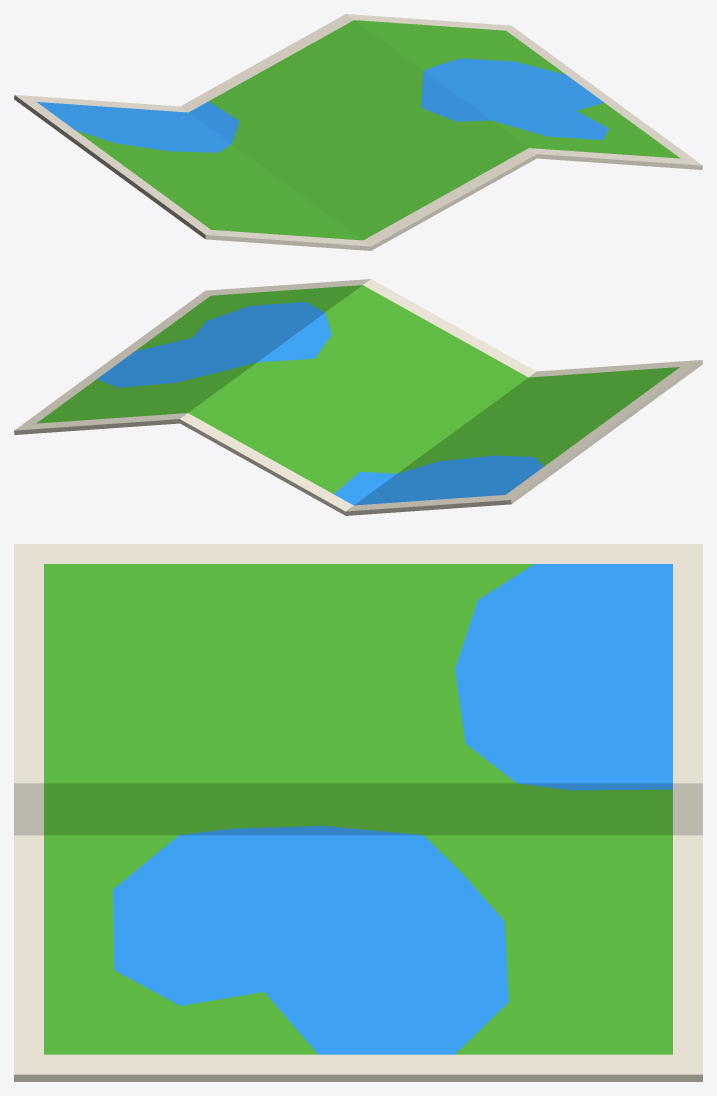
The model's file is Map_02.fbx.
The picture shows the model from 3 angles, top to bottom: view 1: azimuth 30°, elevation 25°; view 2: azimuth 150°, elevation 25°; view 3: azimuth 270°, elevation 25°; orthographic projection. The views are drawn at different scales.
Visible parts, largest first — view 1: Map_02; view 2: Map_02; view 3: Map_02.
Boxes of the visible parts, x1,y1,x2,y2 form: Map_02: [14, 14, 702, 250]; Map_02: [14, 279, 702, 515]; Map_02: [14, 544, 702, 1081].
Bounding box in the file's own units: 88.53 × 9.58 × 58.97.
